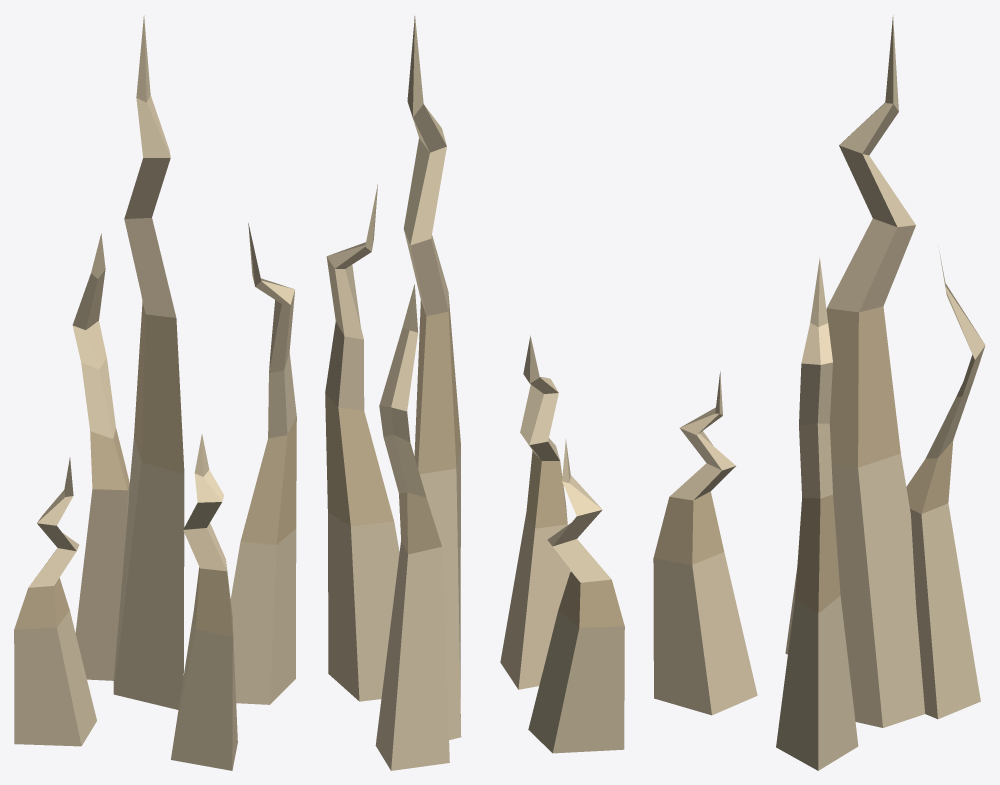
The model's file is EA_M_Env_DryTallGrass_01e.fbx.
3 views of the same model, side by side, from view 1: azimuth 30°, elevation 25°; view 2: azimuth 150°, elevation 25°; view 3: azimuth 270°, elevation 25° (orthographic). The views are drawn at different scales.
Visible parts, largest first — view 1: EA_M_Env_DryTallGrass_01e_LOD0; view 2: EA_M_Env_DryTallGrass_01e_LOD0; view 3: EA_M_Env_DryTallGrass_01e_LOD0.
Boxes of the visible parts, x1,y1,x2,y2 form: EA_M_Env_DryTallGrass_01e_LOD0: [14, 15, 296, 770]; EA_M_Env_DryTallGrass_01e_LOD0: [325, 16, 624, 770]; EA_M_Env_DryTallGrass_01e_LOD0: [653, 15, 985, 770].
Size of what is drawn, in the model's own units: 0.206 by 0.4682 by 0.2019.
